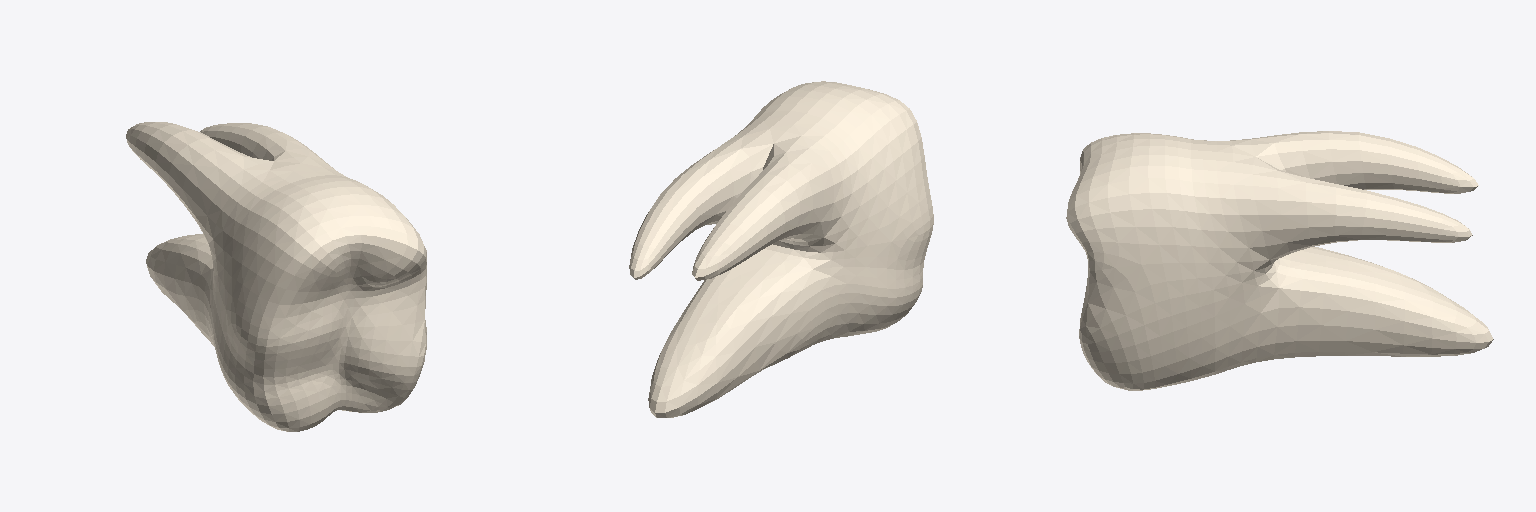
The model's file is tooth.obj.
3 renders of one model, left to right at view 1: azimuth 30°, elevation 25°; view 2: azimuth 150°, elevation 25°; view 3: azimuth 270°, elevation 25°, orthographic.
Parts seen in each view (by area): view 1: Tooth0; view 2: Tooth0; view 3: Tooth0.
Boxes of the visible parts, x1,y1,x2,y2 form: Tooth0: [126, 122, 426, 431]; Tooth0: [629, 81, 933, 417]; Tooth0: [1066, 131, 1493, 390].
Size of the model in its own units: 232 by 294 by 502.